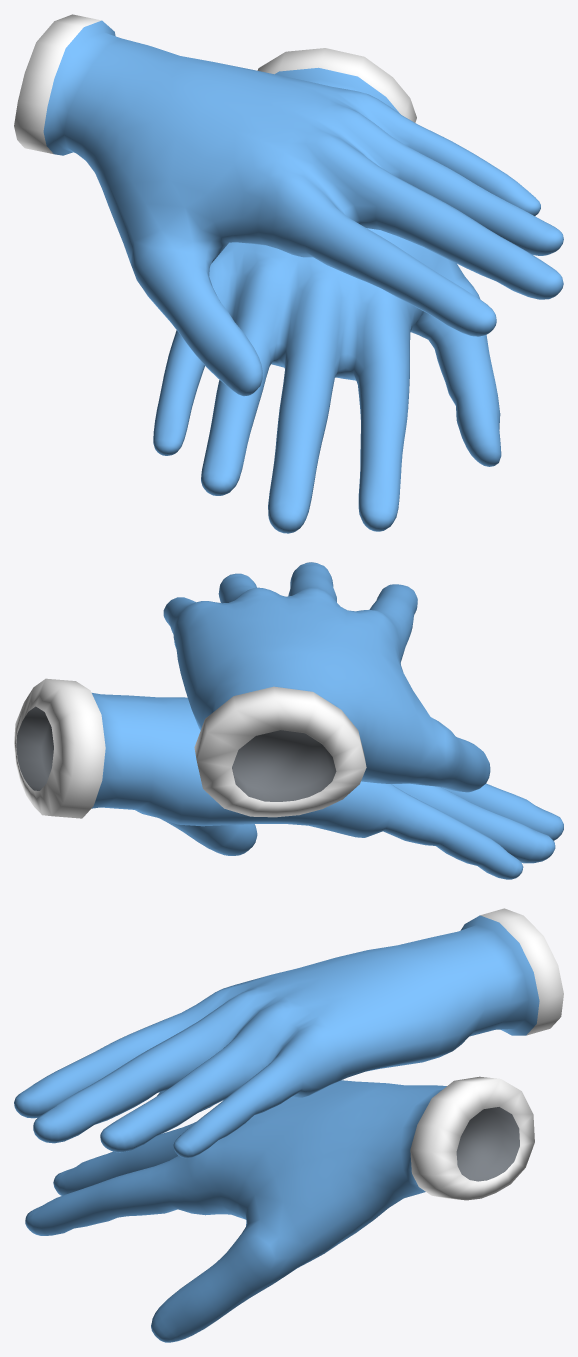
File: gloves.fbx
The picture shows the model from 3 angles, top to bottom: view 1: azimuth 30°, elevation 25°; view 2: azimuth 150°, elevation 25°; view 3: azimuth 270°, elevation 25°; orthographic projection. The views are drawn at different scales.
Parts seen in each view (by area): view 1: gloves; view 2: gloves; view 3: gloves.
Boxes of the visible parts, <box> form: gloves: <box>14,14,563,533</box>; gloves: <box>14,562,563,879</box>; gloves: <box>14,908,563,1342</box>.
Bounding box in the file's own units: 17.32 × 15.36 × 23.78.
